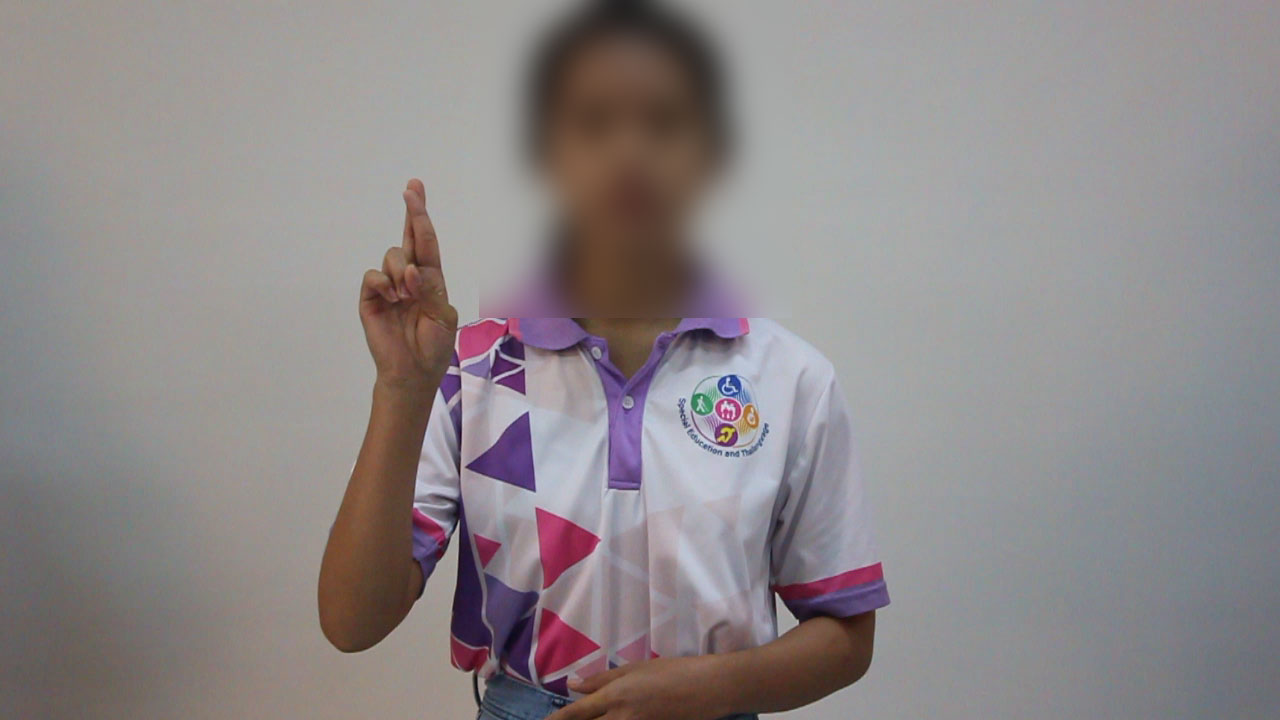rao: (346, 167, 465, 414)
